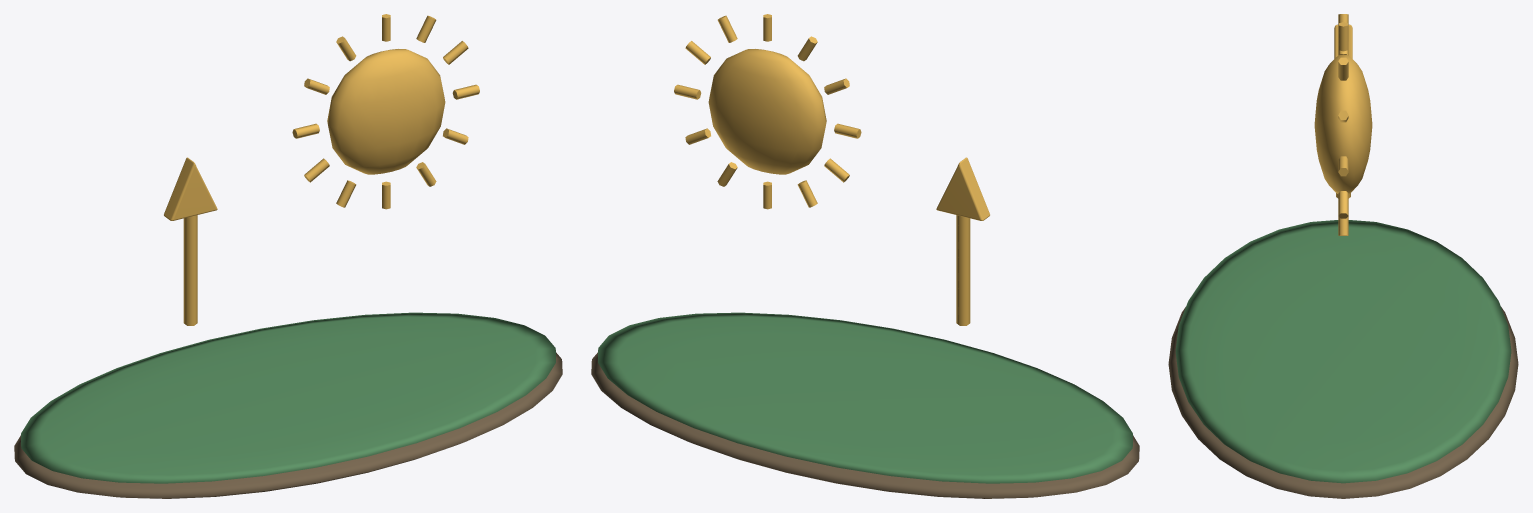
The model's file is before-noon.glb.
3 views of the same model, side by side, from view 1: azimuth 30°, elevation 25°; view 2: azimuth 150°, elevation 25°; view 3: azimuth 270°, elevation 25° (orthographic). The views are drawn at different scales.
Visible parts, largest first — view 1: before-noon_surface_01, before-noon_surface_02, before-noon_surface_00; view 2: before-noon_surface_01, before-noon_surface_02, before-noon_surface_00; view 3: before-noon_surface_01, before-noon_surface_02, before-noon_surface_00.
Boxes of the visible parts, <box> form: before-noon_surface_01: <box>21,312,555,483</box>; before-noon_surface_02: <box>164,14,479,325</box>; before-noon_surface_00: <box>14,352,562,498</box>; before-noon_surface_01: <box>598,312,1132,483</box>; before-noon_surface_02: <box>674,14,989,325</box>; before-noon_surface_00: <box>591,352,1139,498</box>; before-noon_surface_01: <box>1175,220,1511,483</box>; before-noon_surface_02: <box>1314,14,1372,235</box>; before-noon_surface_00: <box>1168,307,1518,498</box>.
Bounding box in the file's own units: 4.56 × 3.2 × 2.5.
